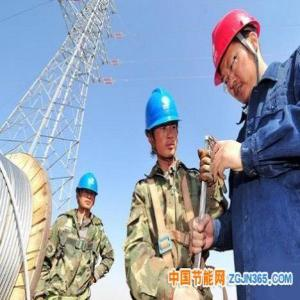blue: (143, 84, 183, 160), (77, 173, 98, 211)
red: (212, 9, 262, 106)
